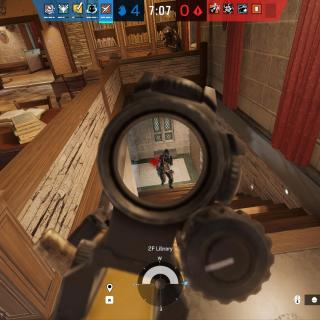Character: (155, 148, 176, 189), (160, 26, 182, 52)
Friend_label: (157, 12, 183, 27)
Head: (164, 26, 172, 36), (163, 150, 170, 157)
